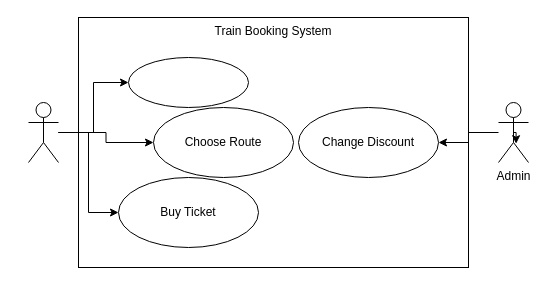
Image size: 548x285. Some labels were removed from this diagram. Each missing label, with the centre of its shape:
Customer: the point at 43,132
Search Connection: the point at 188,82
